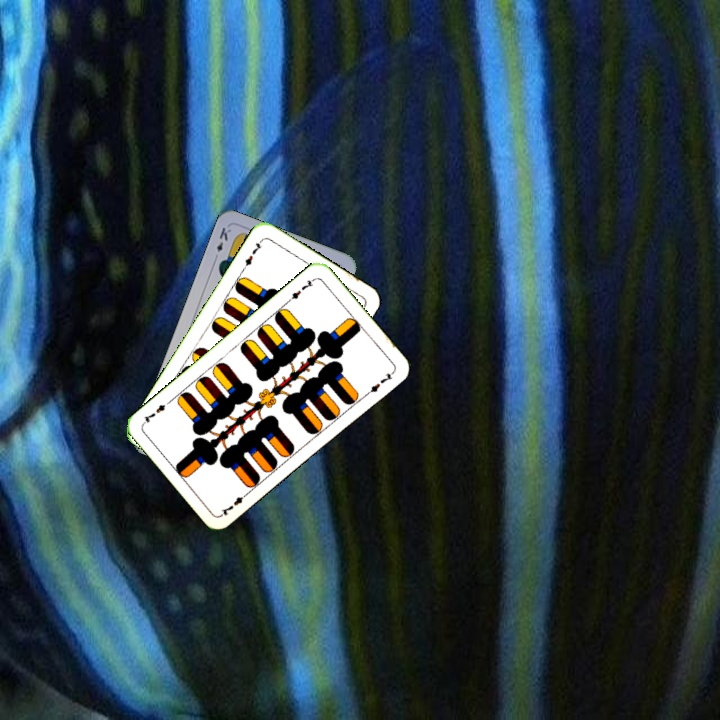E7: (284, 274, 318, 305), (217, 488, 251, 518), (239, 236, 265, 272)
EK: (210, 223, 234, 263)
